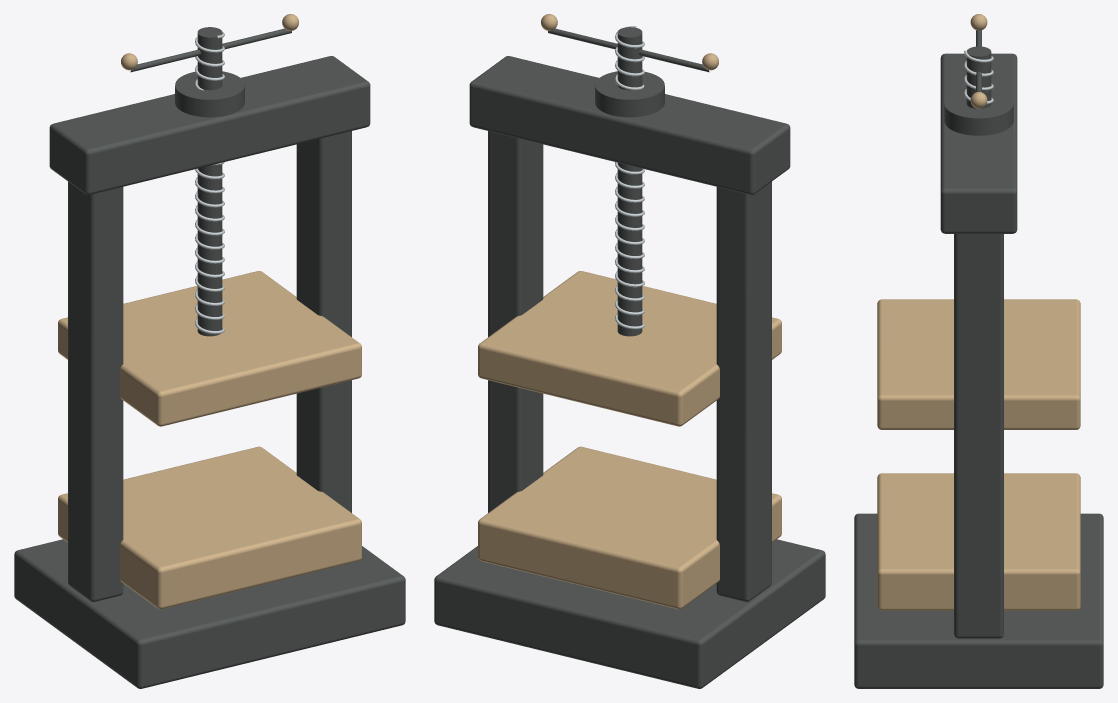
File: bookbinding-and-paper-mill-paper-press-f8533c16__30557.glb
3 renders of one model, left to right at view 1: azimuth 30°, elevation 25°; view 2: azimuth 150°, elevation 25°; view 3: azimuth 270°, elevation 25°, orthographic.
Visible parts, largest first — view 1: paper-press; view 2: paper-press; view 3: paper-press.
Boxes of the visible parts, x1,y1,x2,y2 form: paper-press: (14,14,405,688); paper-press: (434,14,825,688); paper-press: (854,14,1103,688).
Size of the model in its own units: 0.8501 by 1.65 by 0.65.
